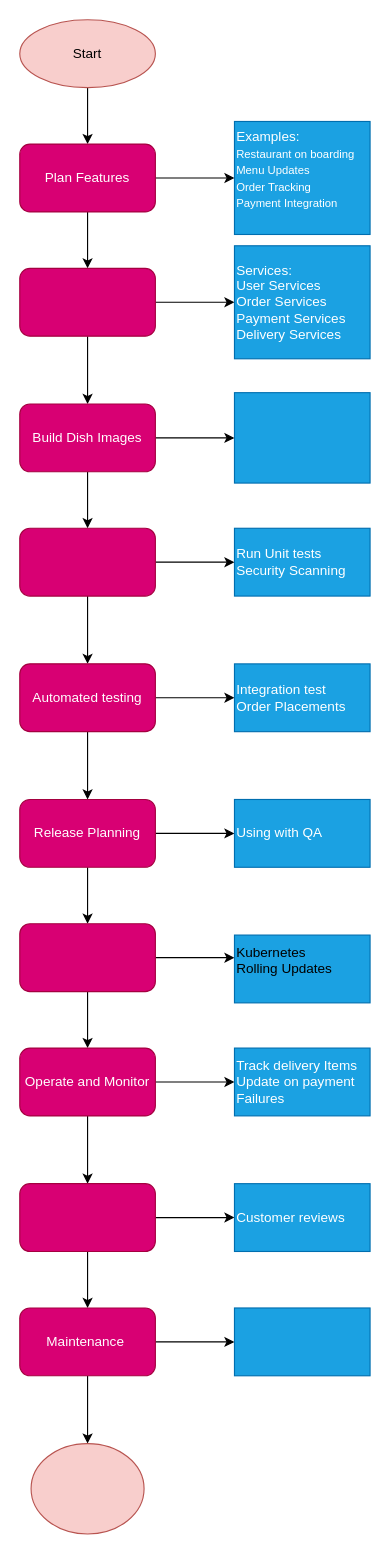
This 390x1554 diagram has some shape labels left out. Here are the shapes that lost their labels. From the top down, the box of each, then its label:
(19, 267, 155, 336): Develop Code
(233, 392, 370, 483): Dish image Storing: Store images in regisrty
(19, 527, 155, 596): Continuous Integration
(19, 923, 155, 992): Deployment
(19, 1183, 155, 1251): Collect Feedback
(233, 1307, 370, 1376): Priortize fixes add new features
(30, 1442, 144, 1534): End
